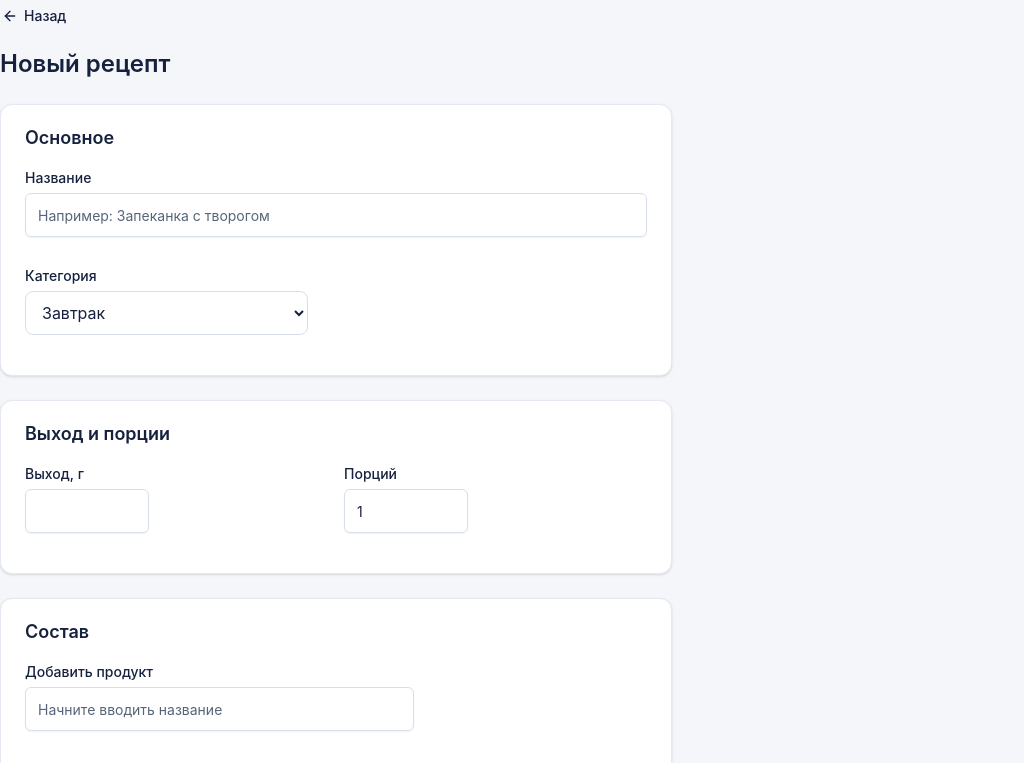
Test: показатели в форме рецепта › убранный из состава продукт не оставляет своих чисел
In the dropdown labelled "Добавить продукт": [219, 709] box [25,687,414,731], type "масло"
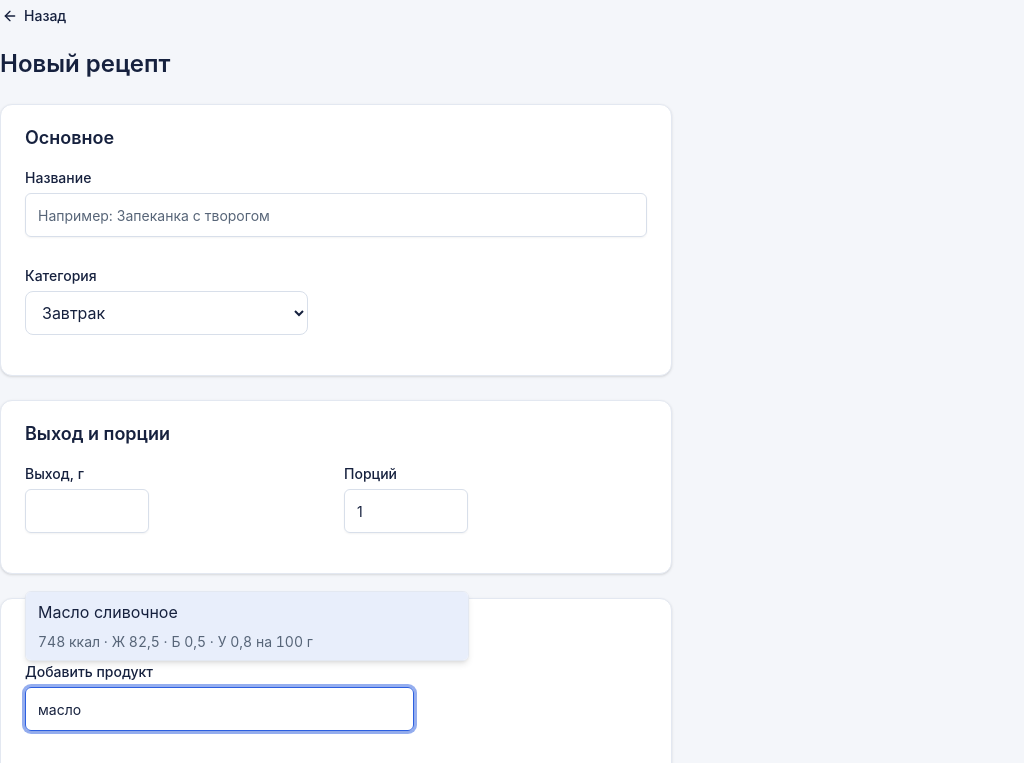
Click the option "Масло сливочное 748 ккал · Ж 82,5 · Б 0,5 · У 0,8 на 100 г": [108, 612] box [26,592,468,660]
(page scrolled)
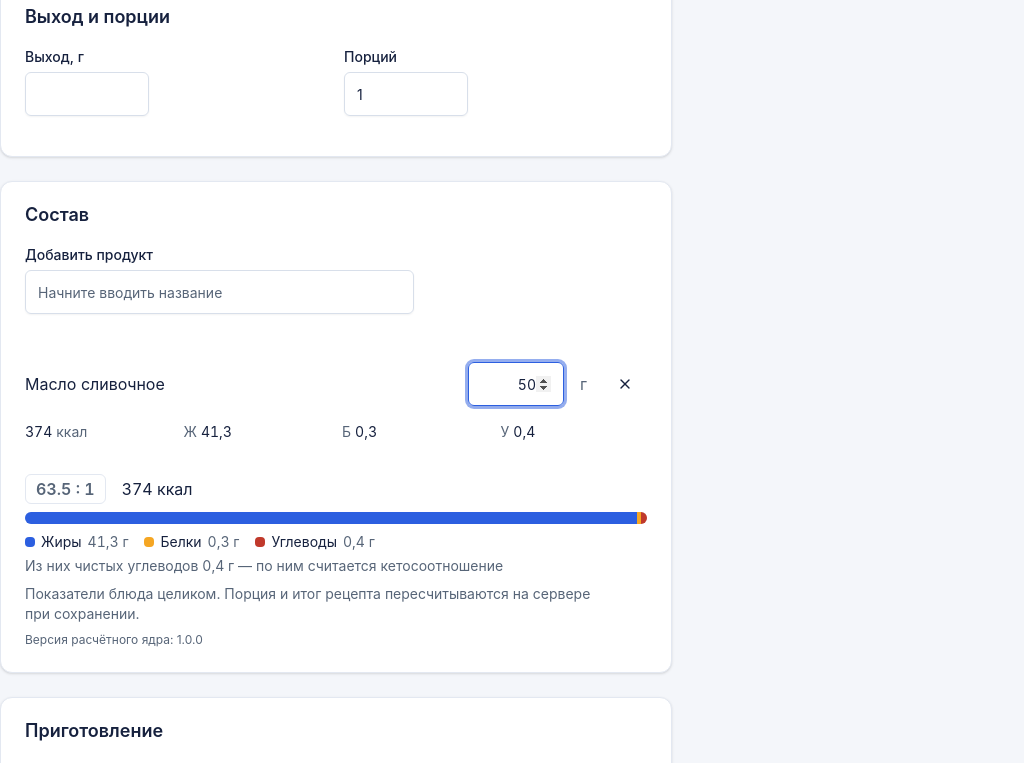
Now the text "374 ккал" is shown, box [122,477,193,501]
Click the button named "Убрать": [625, 384] box [603,362,647,406]
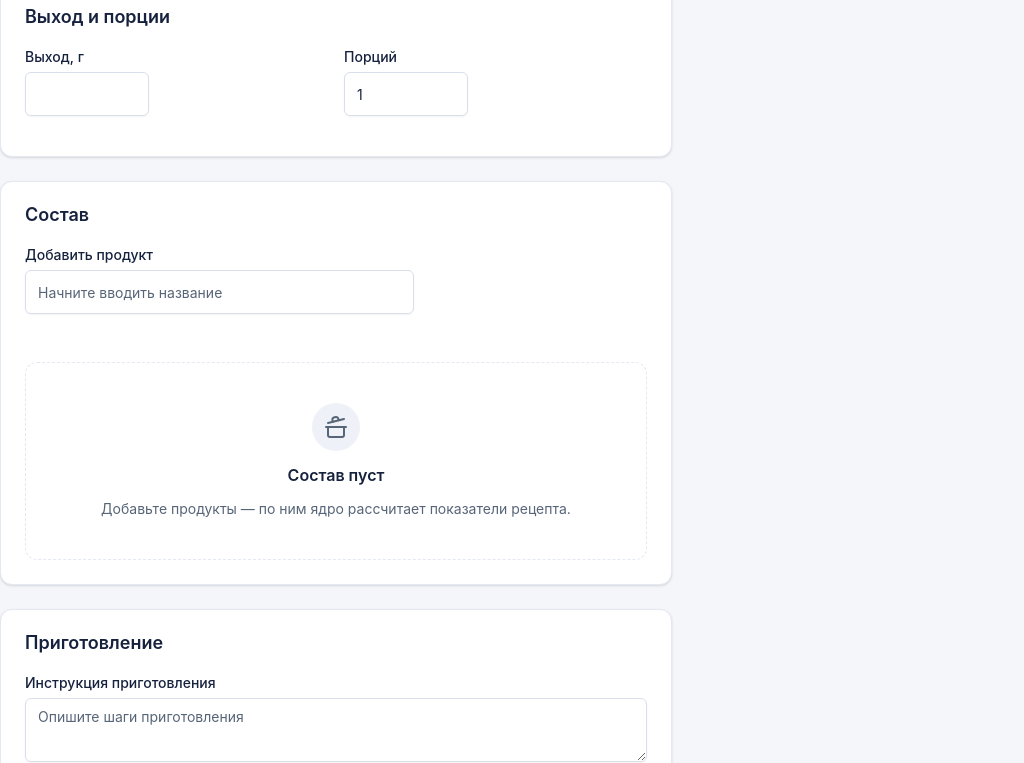
Now the text "374 ккал" is gone
